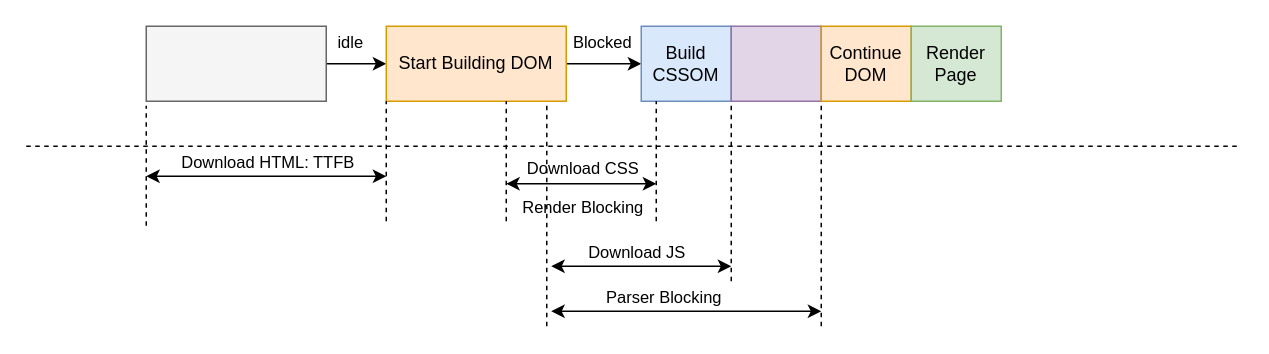
Image size: 1269x354. Some labels were removed from this diagram. Each missing label, with the box of its shape:
Execute JS: (730, 25, 821, 101)
Requested Page: (145, 25, 326, 101)
